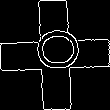O_W: (29, 32, 81, 78)
